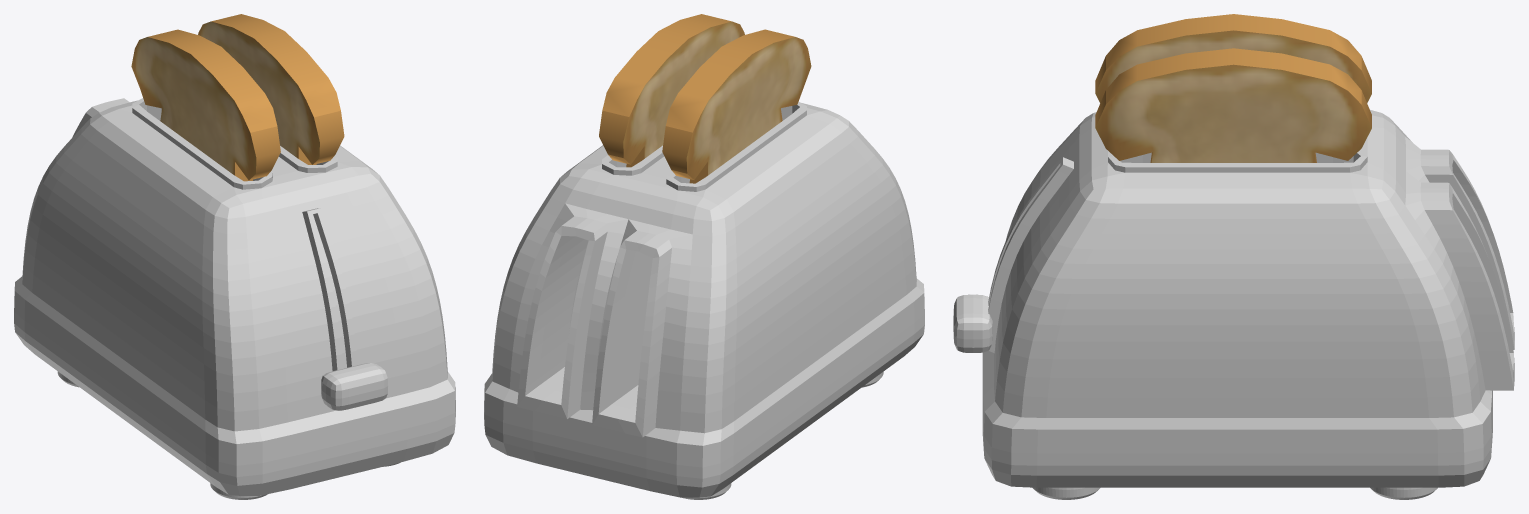
The model's file is Toaster.fbx.
The picture shows the model from 3 angles, left to right: view 1: azimuth 30°, elevation 25°; view 2: azimuth 150°, elevation 25°; view 3: azimuth 270°, elevation 25°; orthographic projection. The views are drawn at different scales.
Parts seen in each view (by area): view 1: Toaster, Toast.001, Toast, Piece; view 2: Toaster, Toast.001, Toast; view 3: Toaster, Toast, Toast.001, Piece.
Part boxes in pixels (x1,y1,x2,y2): Toaster: [14, 98, 455, 499]; Toast.001: [131, 29, 280, 181]; Toast: [198, 14, 344, 164]; Piece: [321, 363, 387, 410]; Toaster: [484, 102, 924, 499]; Toast.001: [662, 29, 811, 183]; Toast: [599, 14, 744, 167]; Toaster: [982, 110, 1514, 499]; Toast: [1095, 48, 1371, 162]; Toast.001: [1095, 14, 1371, 102]; Piece: [953, 294, 992, 352].
Size of the model in its own units: 27.34 by 40.69 by 50.07.
